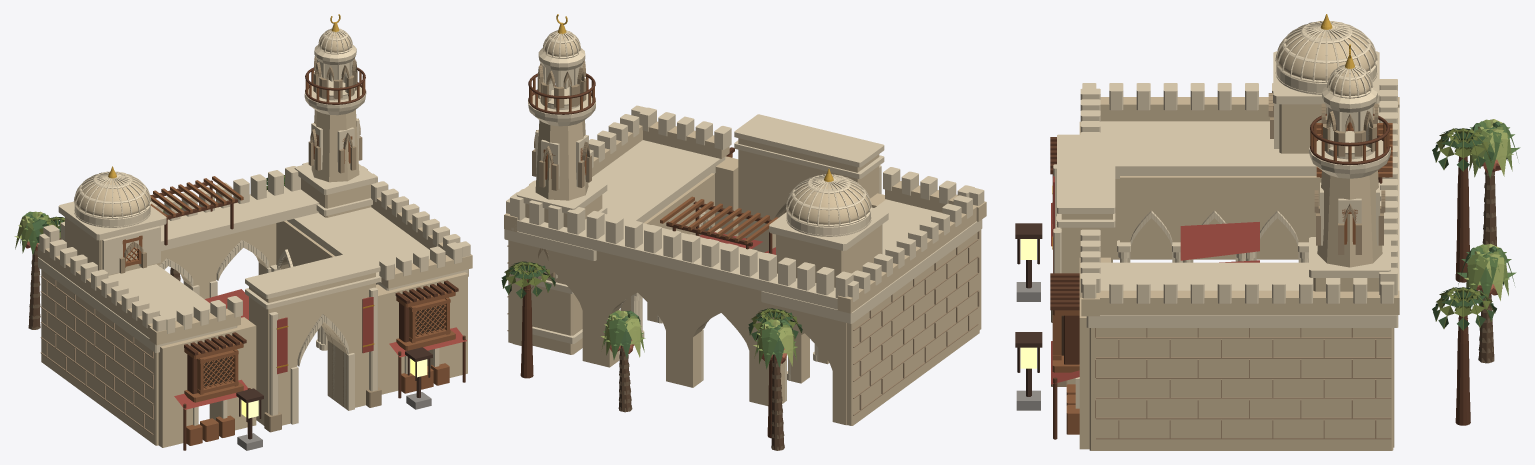
File: cairo.glb
3 views of the same model, side by side, from view 1: azimuth 30°, elevation 25°; view 2: azimuth 150°, elevation 25°; view 3: azimuth 270°, elevation 25° (orthographic). The views are drawn at different scales.
Visible parts, largest first — view 1: cairo_B03R2_cairo_Stone, cairo_B03R2_cairo_StoneLight, cairo_B03R2_cairo_WoodLight, cairo_B03R2_cairo_Wood, cairo_B03R2_cairo_StoneShade, cairo_B03R2_cairo_Cloth, cairo_B03R2_cairo_Mortar, cairo_WarmMini_wooddark, cairo_B03R2_cairo_Dark, cairo_WarmMini_stone, cairo_BiomeV3_Branch, cairo_WarmMini_Lamp; view 2: cairo_B03R2_cairo_Stone, cairo_B03R2_cairo_StoneLight, cairo_B03R2_cairo_WoodLight, cairo_B03R2_cairo_Mortar, cairo_B03R2_cairo_Wood, cairo_B03R2_cairo_StoneShade, cairo_BiomeV3_Branch, cairo_B03R2_cairo_LeafLight, cairo_BiomeV3_Foliage_palm0, cairo_BiomeV3_Foliage_palm2, cairo_B03R2_cairo_Leaf, cairo_BiomeV3_Static_Bark (+2 smaller); view 3: cairo_B03R2_cairo_Stone, cairo_B03R2_cairo_StoneLight, cairo_B03R2_cairo_Wood, cairo_B03R2_cairo_Mortar, cairo_B03R2_cairo_Cloth, cairo_B03R2_cairo_WoodLight, cairo_B03R2_cairo_StoneShade, cairo_B03R2_cairo_LeafLight, cairo_B03R2_cairo_Leaf, cairo_WarmMini_wooddark, cairo_BiomeV3_Foliage_palm1, cairo_BiomeV3_Foliage_palm0 (+5 smaller).
Part boxes in pixels (left/top/right/bottom): cairo_B03R2_cairo_Stone: left=37, top=33, right=472, bottom=447; cairo_B03R2_cairo_StoneLight: left=38, top=28, right=470, bottom=425; cairo_B03R2_cairo_WoodLight: left=122, top=70, right=455, bottom=445; cairo_B03R2_cairo_Wood: left=59, top=67, right=465, bottom=450; cairo_B03R2_cairo_StoneShade: left=119, top=56, right=381, bottom=432; cairo_B03R2_cairo_Cloth: left=174, top=289, right=466, bottom=409; cairo_B03R2_cairo_Mortar: left=40, top=276, right=153, bottom=434; cairo_WarmMini_wooddark: left=236, top=347, right=432, bottom=439; cairo_B03R2_cairo_Dark: left=203, top=305, right=443, bottom=386; cairo_WarmMini_stone: left=237, top=392, right=431, bottom=450; cairo_BiomeV3_Branch: left=28, top=249, right=180, bottom=328; cairo_WarmMini_Lamp: left=241, top=359, right=427, bottom=418; cairo_B03R2_cairo_Stone: left=504, top=35, right=986, bottom=425; cairo_B03R2_cairo_StoneLight: left=504, top=30, right=984, bottom=401; cairo_B03R2_cairo_WoodLight: left=529, top=76, right=778, bottom=244; cairo_B03R2_cairo_Mortar: left=507, top=231, right=979, bottom=415; cairo_B03R2_cairo_Wood: left=520, top=73, right=772, bottom=438; cairo_B03R2_cairo_StoneShade: left=532, top=60, right=786, bottom=278; cairo_BiomeV3_Branch: left=619, top=345, right=783, bottom=450; cairo_B03R2_cairo_LeafLight: left=503, top=261, right=801, bottom=341; cairo_BiomeV3_Foliage_palm0: left=603, top=312, right=795, bottom=369; cairo_BiomeV3_Foliage_palm2: left=601, top=311, right=793, bottom=366; cairo_B03R2_cairo_Leaf: left=501, top=261, right=802, bottom=340; cairo_BiomeV3_Static_Bark: left=618, top=347, right=784, bottom=450; cairo_B03R2_cairo_Stone: left=1061, top=31, right=1399, bottom=450; cairo_B03R2_cairo_StoneLight: left=1053, top=21, right=1399, bottom=408; cairo_B03R2_cairo_Wood: left=1050, top=114, right=1470, bottom=439; cairo_B03R2_cairo_Mortar: left=1095, top=328, right=1391, bottom=439; cairo_B03R2_cairo_Cloth: left=1051, top=175, right=1259, bottom=384; cairo_B03R2_cairo_WoodLight: left=1052, top=122, right=1392, bottom=434; cairo_B03R2_cairo_StoneShade: left=1051, top=93, right=1385, bottom=386; cairo_B03R2_cairo_LeafLight: left=1435, top=128, right=1495, bottom=330; cairo_B03R2_cairo_Leaf: left=1432, top=128, right=1496, bottom=329; cairo_WarmMini_wooddark: left=1015, top=223, right=1042, bottom=396; cairo_BiomeV3_Foliage_palm1: left=1467, top=119, right=1513, bottom=295; cairo_BiomeV3_Foliage_palm0: left=1467, top=121, right=1520, bottom=300.
Size of the model in its own units: 4.12 by 3.63 by 4.33.
